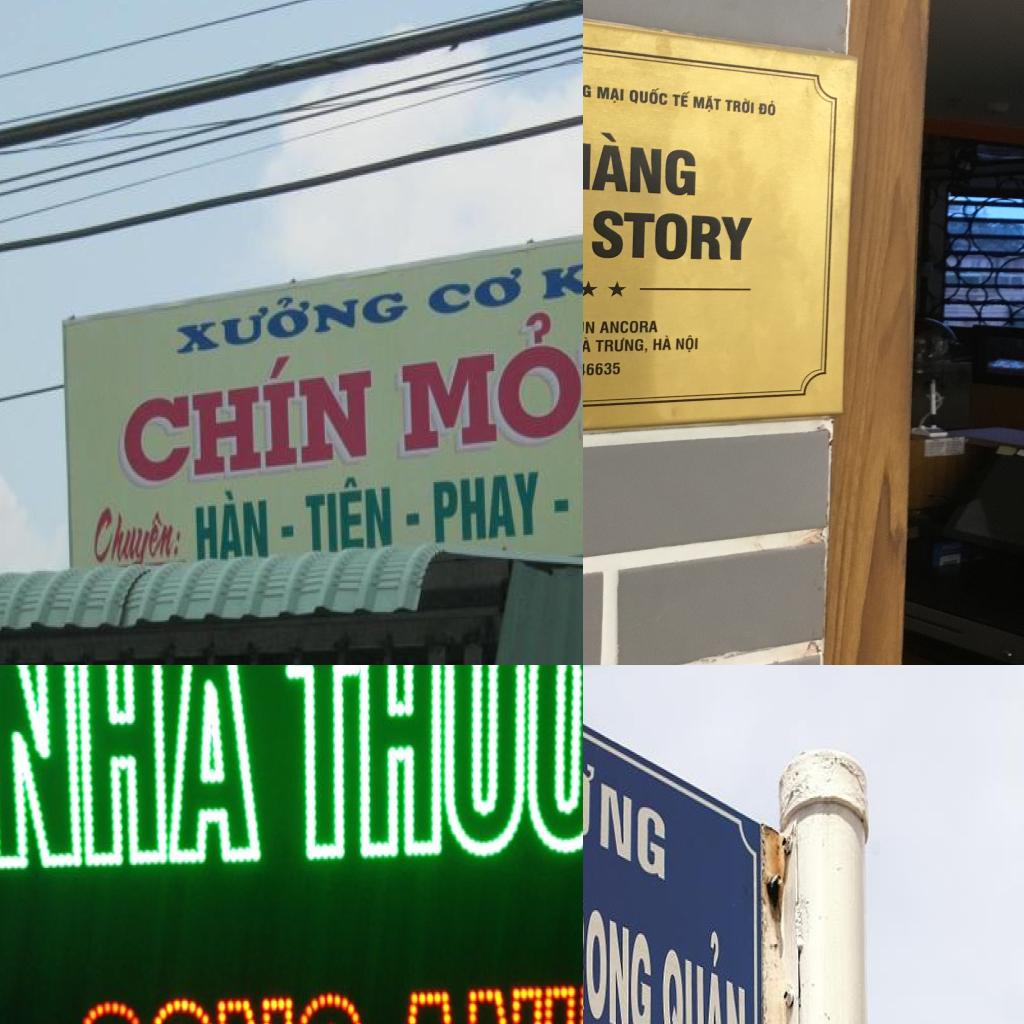text: (265, 665, 583, 869), (0, 665, 268, 876), (110, 334, 380, 499), (387, 273, 583, 475), (170, 269, 415, 366), (583, 695, 670, 887), (642, 169, 719, 352), (583, 867, 656, 1024), (658, 910, 755, 1024), (424, 464, 548, 550), (302, 466, 398, 560), (655, 36, 723, 160), (421, 260, 527, 327), (190, 484, 272, 566), (89, 504, 188, 571), (583, 77, 638, 186), (583, 198, 626, 293), (537, 238, 583, 308), (858, 135, 879, 204), (828, 230, 852, 273), (825, 114, 848, 157), (802, 107, 822, 153), (826, 200, 852, 228), (862, 206, 882, 237), (804, 182, 823, 214), (799, 217, 823, 241), (806, 243, 828, 267), (821, 77, 848, 96), (827, 288, 853, 307), (551, 494, 572, 516), (803, 155, 822, 179), (829, 177, 848, 196), (822, 97, 844, 113), (824, 158, 847, 173), (278, 521, 296, 540), (404, 511, 422, 527), (832, 277, 853, 285)
